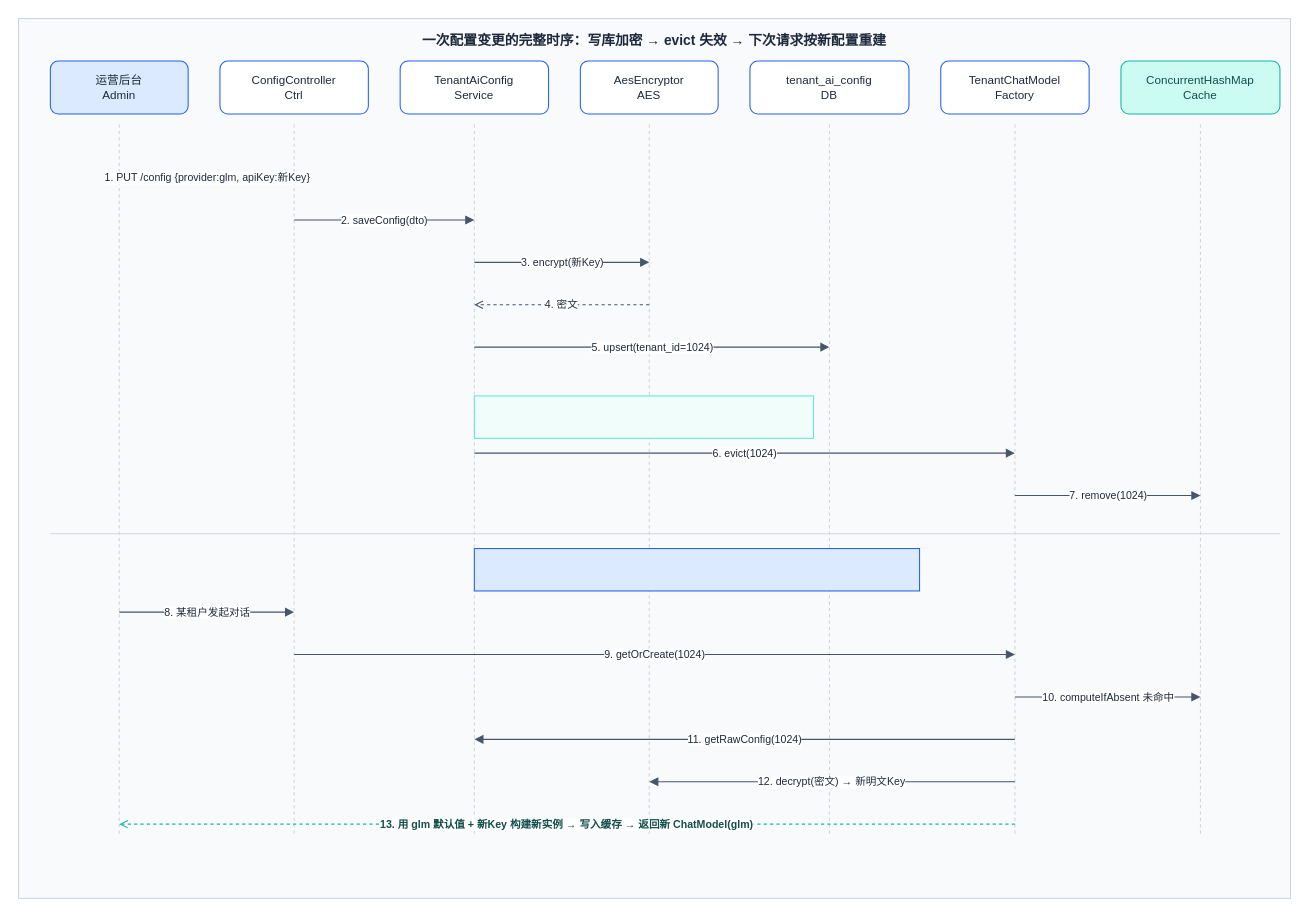
Image size: 1309x917. Some labels were removed from this diagram. Each missing label, with the centre of its shape:
"写库后主动 evict，旧实例被丢弃，配置秒级生效、不重启" goes at (643,416).
"（稍后）某租户发起对话 → 缓存已空，走 createForTenant 用新配置重建" goes at (696,569).
